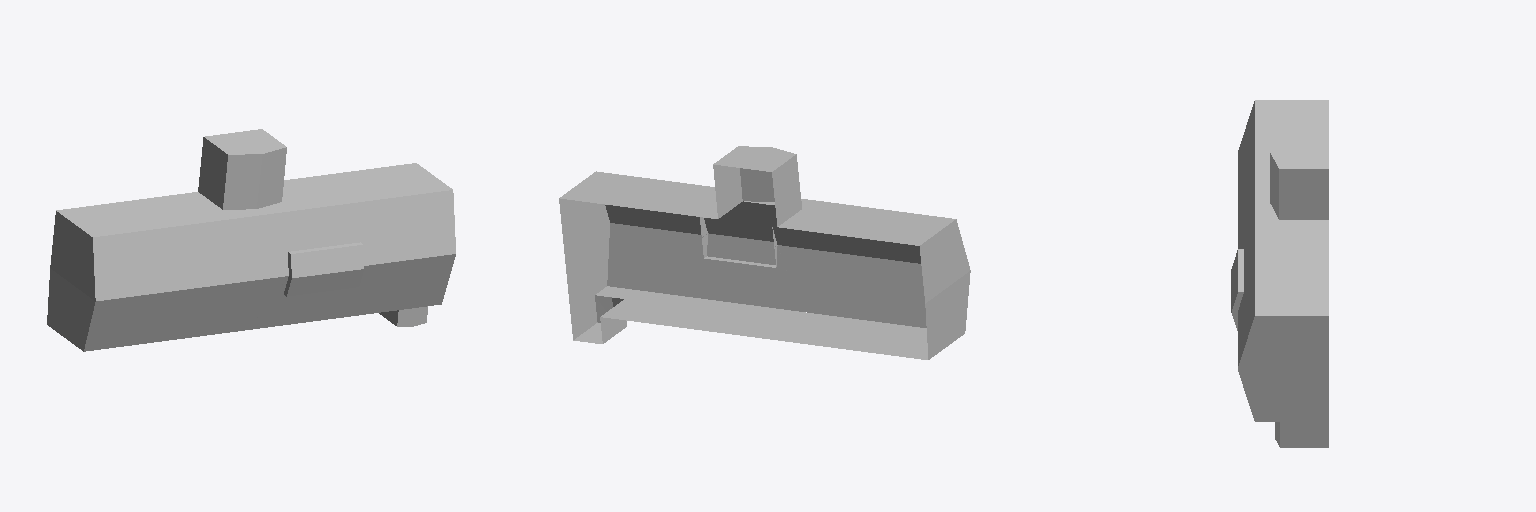
The model's file is talo_Build0000056.obj.
3 views of the same model, side by side, from view 1: azimuth 30°, elevation 25°; view 2: azimuth 150°, elevation 25°; view 3: azimuth 270°, elevation 25° (orthographic).
Bounding box in the file's own units: 53.67 × 30.09 × 12.22.